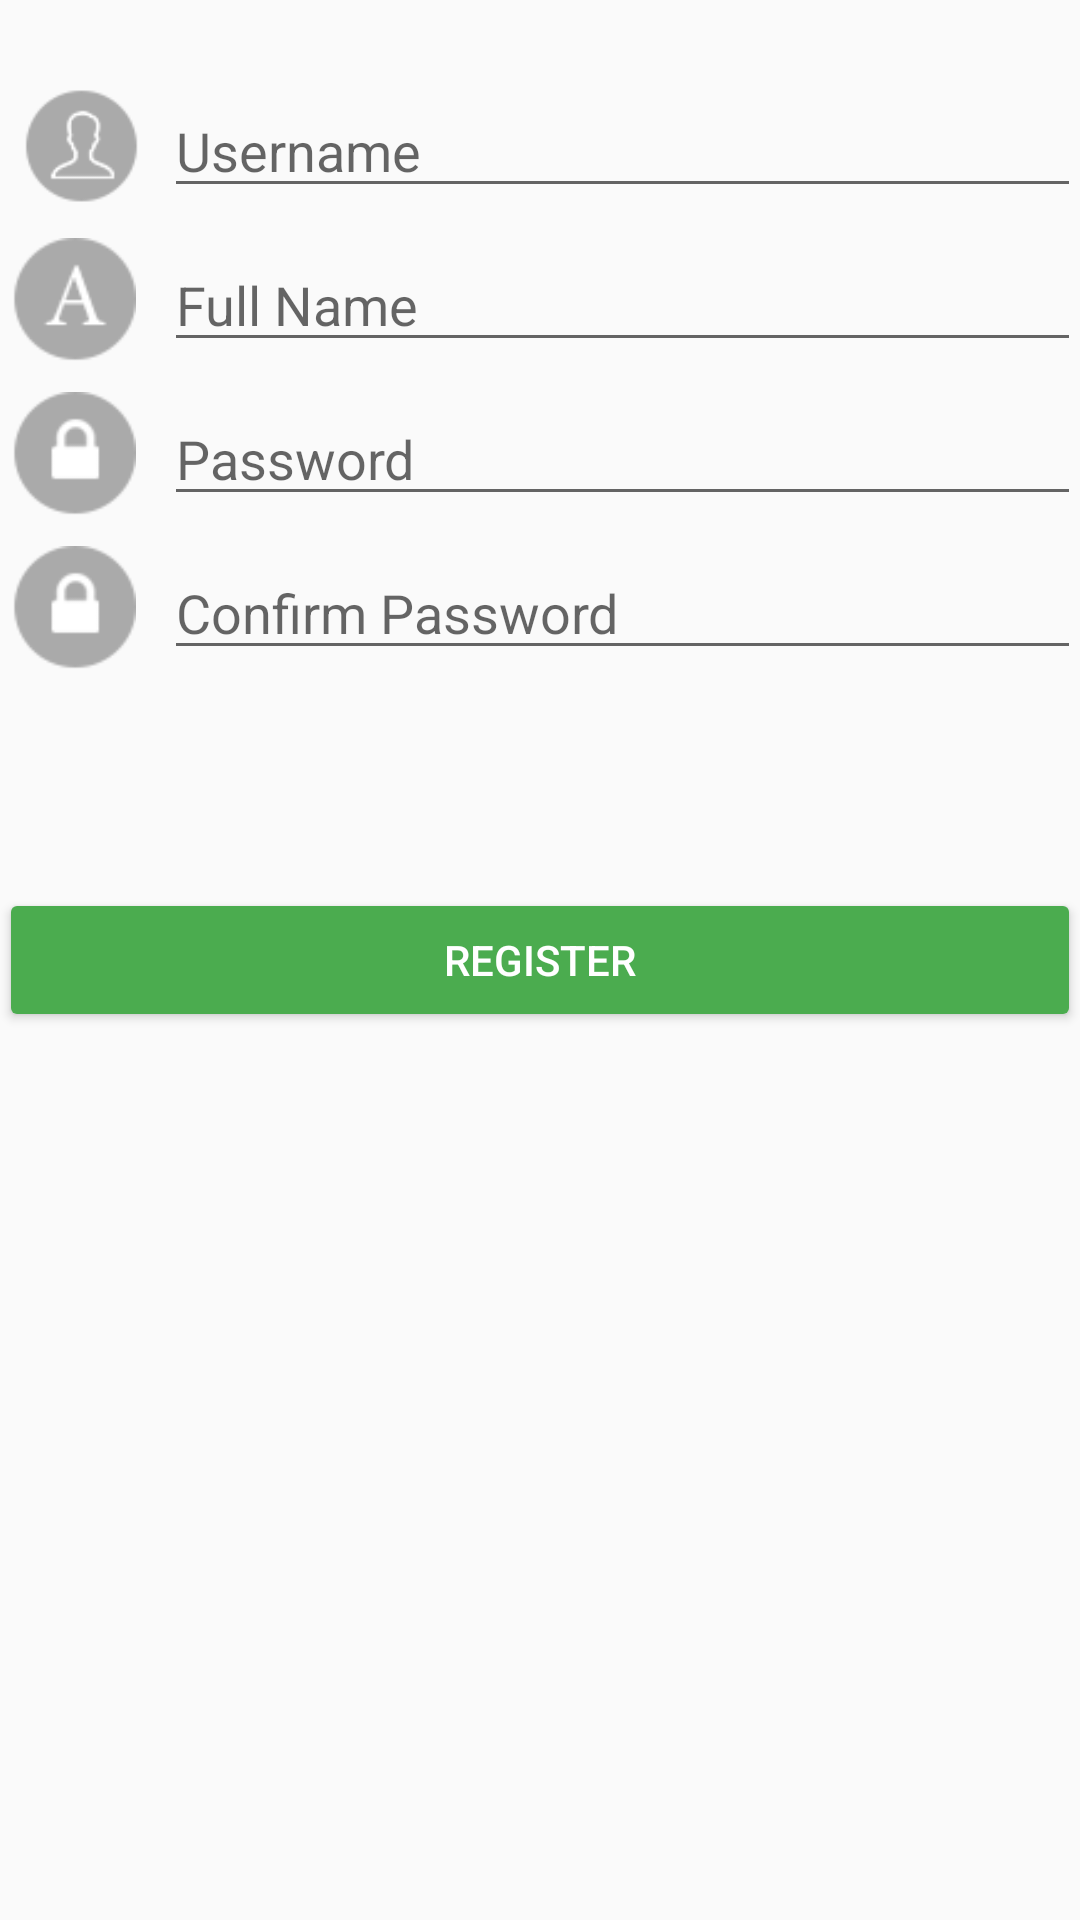

Where to tap for icons on this 1080px×1920px app screen, as point (x, y):
circlea: point (75, 299)
circledude: point (81, 146)
circlelock: point (75, 453), point (75, 607)
